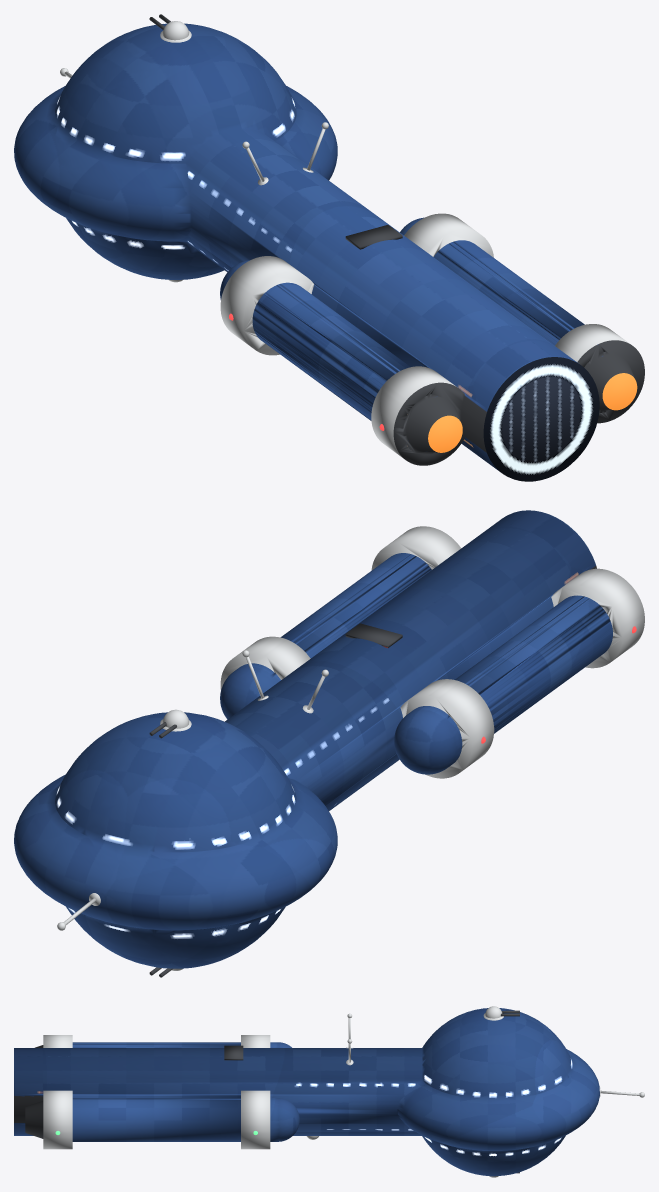
Rendered from earth_destroyer.glb.
The picture shows the model from 3 angles, top to bottom: view 1: azimuth 30°, elevation 25°; view 2: azimuth 150°, elevation 25°; view 3: azimuth 270°, elevation 25°; orthographic projection. The views are drawn at different scales.
Visible parts, largest first — view 1: EarthDestroyer; view 2: EarthDestroyer; view 3: EarthDestroyer.
Part boxes in pixels (x1,y1,x2,y2): EarthDestroyer: [14, 14, 644, 481]; EarthDestroyer: [14, 510, 644, 977]; EarthDestroyer: [14, 1006, 644, 1177].
Size of the model in its own units: 14.48 by 12.8 by 43.06.
1 material, 1 textured.
